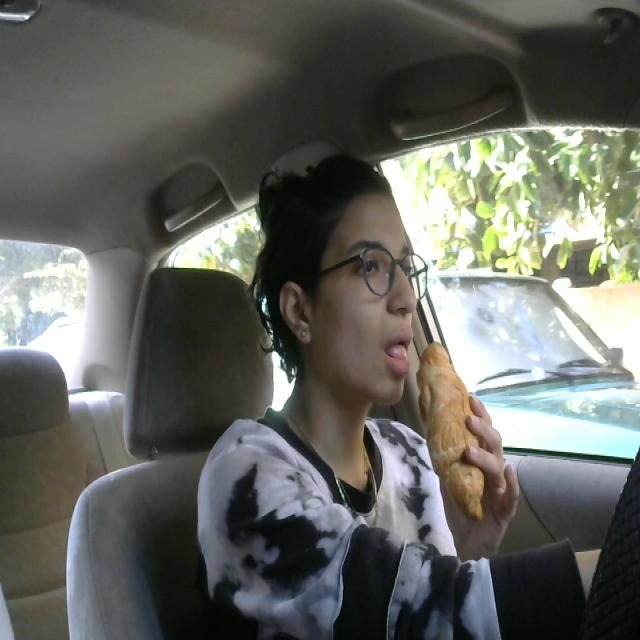eating: (413, 328, 487, 530)
